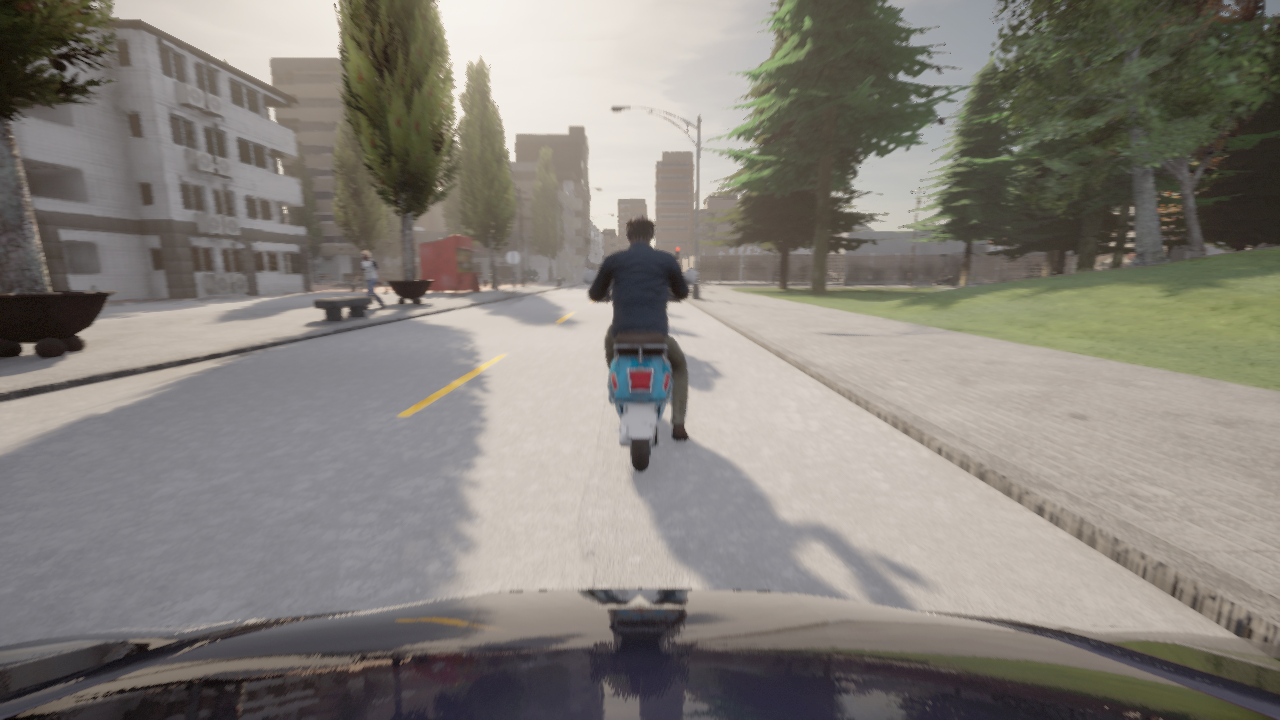cyclist: (0, 588, 1279, 719), (583, 268, 697, 472), (931, 276, 957, 288), (715, 268, 729, 278), (736, 275, 757, 279), (800, 269, 808, 277), (745, 275, 753, 279), (770, 275, 776, 279), (1031, 276, 1035, 277)
pedestrian: (355, 250, 385, 309)
